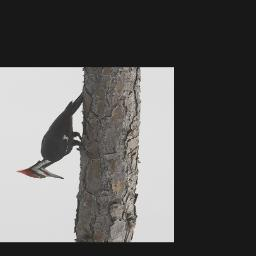Woodpecker: (16, 90, 83, 179)
